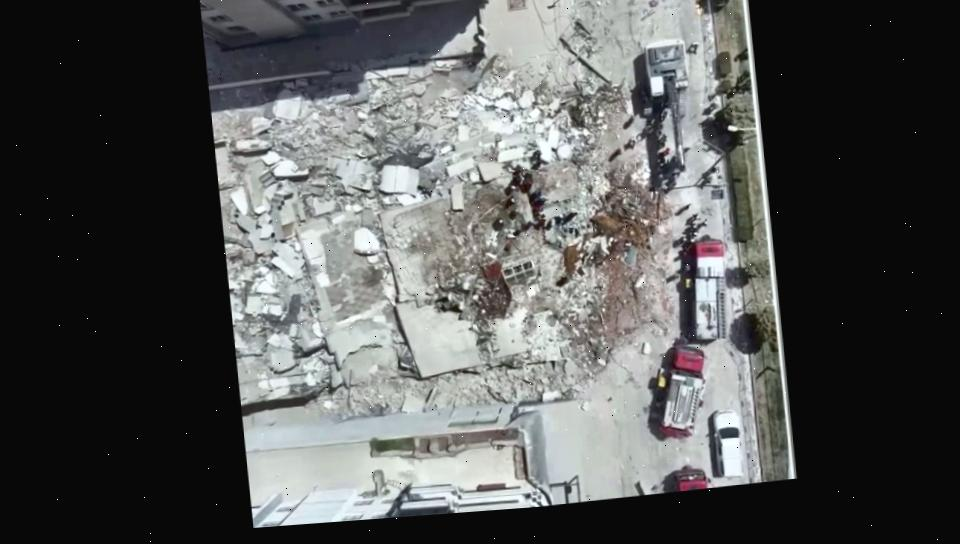kapali: (573, 0, 757, 427)
